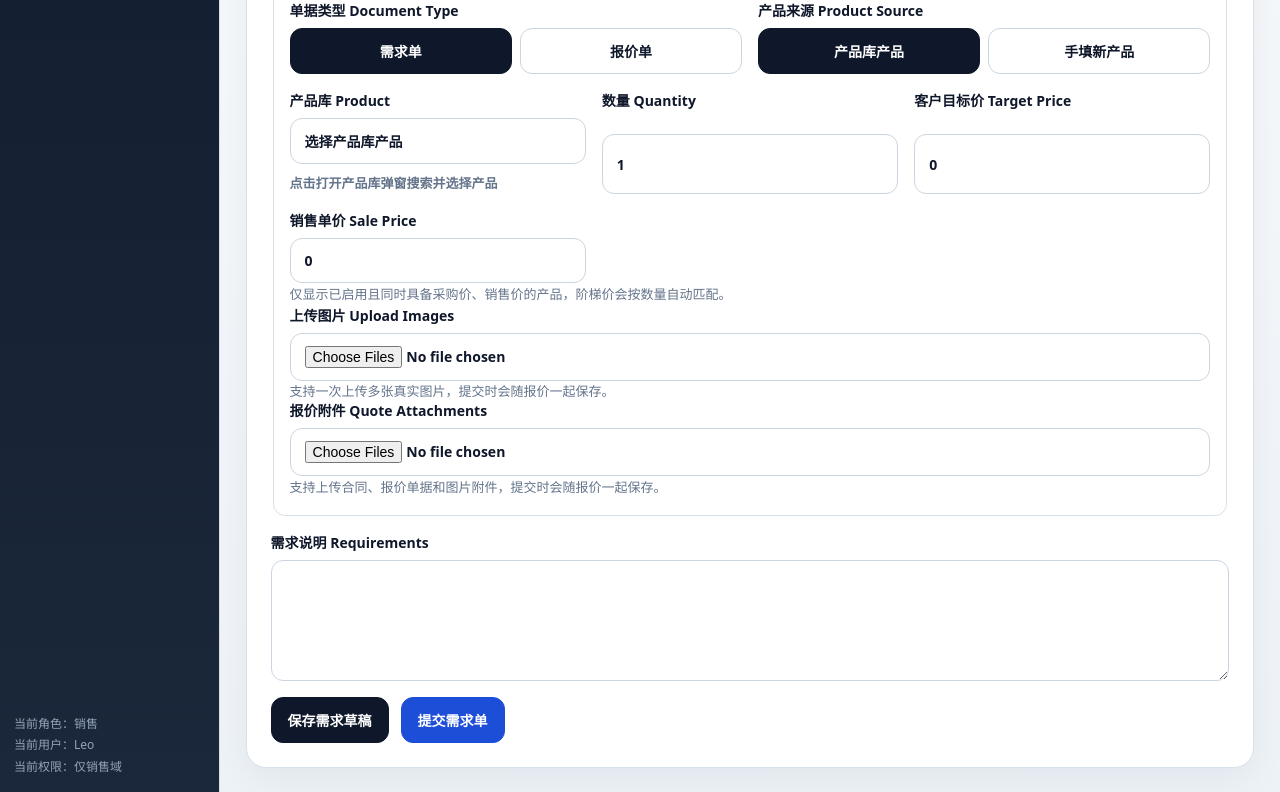
formal quote create page › blocks submit and shows a validation error when customer and product are missing
(page scrolled)
Click the button "提交需求单" at (453, 720), box [401,697,505,743]
(page scrolled)
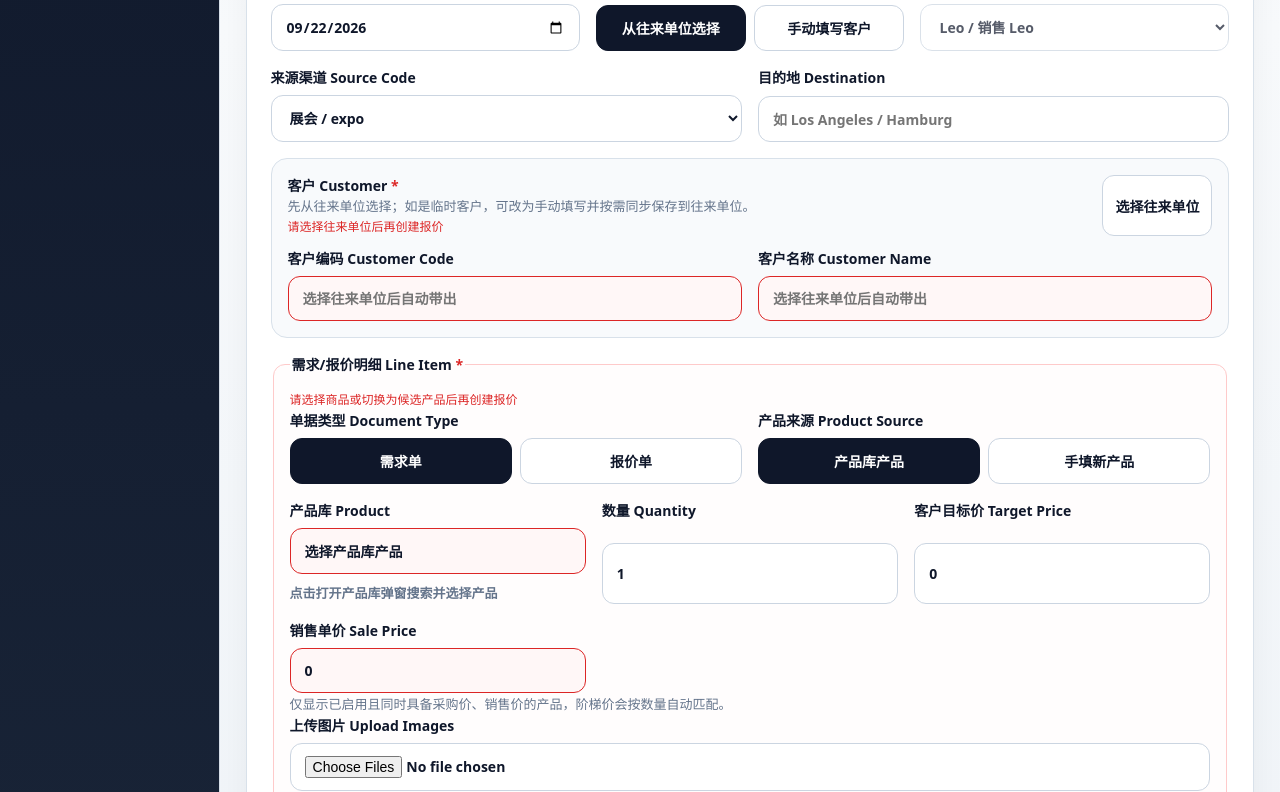
Check: the text "请选择往来单位后再创建报价" is shown, box [288,218,444,235]
Check: the text "请选择商品或切换为候选产品后再创建报价" is shown, box [290,392,518,408]
